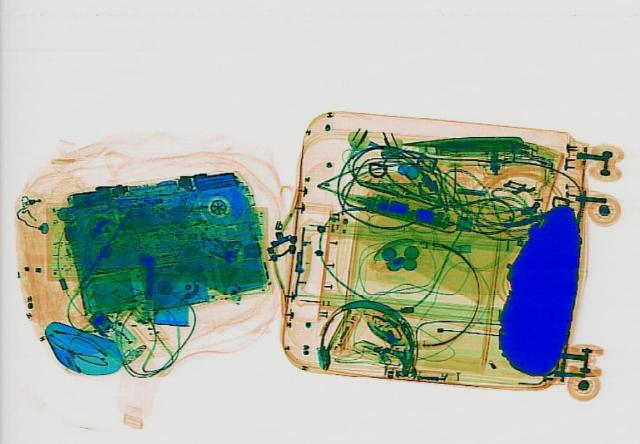Knife: (398, 136, 520, 149)
